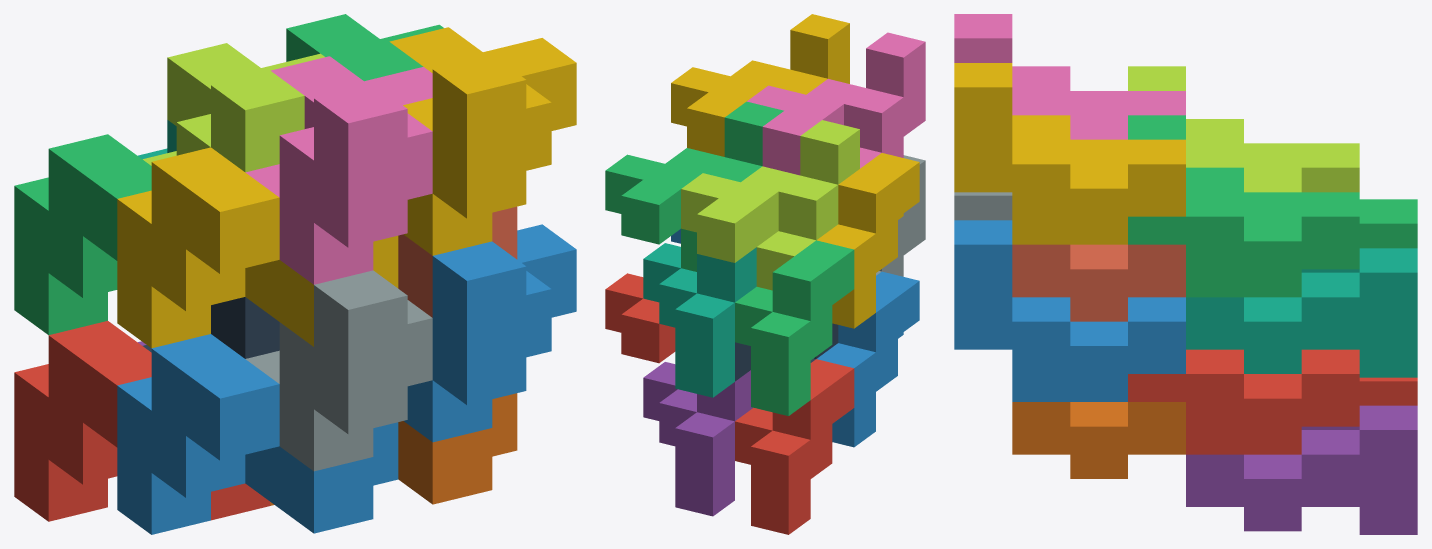
The model's file is tiling.obj.
3 views of the same model, side by side, from view 1: azimuth 30°, elevation 25°; view 2: azimuth 150°, elevation 25°; view 3: azimuth 270°, elevation 25° (orthographic). The views are drawn at different scales.
Visible parts, largest first — view 1: copy_1_domain_2, copy_1_domain_4, copy_2_domain_4, copy_2_domain_8, copy_2_domain_6, copy_2_domain_2, copy_1_domain_1, copy_1_domain_3, copy_2_domain_3, copy_1_domain_6, copy_2_domain_7, copy_1_domain_8 (+1 smaller); view 2: copy_2_domain_3, copy_1_domain_3, copy_2_domain_4, copy_1_domain_1, copy_1_domain_7, copy_2_domain_7, copy_2_domain_8, copy_1_domain_5, copy_1_domain_4, copy_1_domain_2, copy_2_domain_5, copy_2_domain_2 (+1 smaller); view 3: copy_2_domain_8, copy_2_domain_6, copy_2_domain_7, copy_1_domain_5, copy_1_domain_7, copy_2_domain_5, copy_1_domain_8, copy_1_domain_6, copy_2_domain_4, copy_2_domain_3, copy_1_domain_3, copy_1_domain_1 (+1 smaller).
Boxes of the visible parts, <box> form: copy_1_domain_2: <box>117,334,398,534</box>; copy_1_domain_4: <box>117,147,398,348</box>; copy_2_domain_4: <box>245,56,432,284</box>; copy_2_domain_8: <box>389,27,576,255</box>; copy_2_domain_6: <box>404,224,576,442</box>; copy_2_domain_2: <box>245,270,432,471</box>; copy_1_domain_1: <box>14,321,270,521</box>; copy_1_domain_3: <box>14,134,151,335</box>; copy_2_domain_3: <box>143,43,324,172</box>; copy_1_domain_6: <box>270,393,517,505</box>; copy_2_domain_7: <box>286,14,443,81</box>; copy_1_domain_8: <box>398,206,517,317</box>; copy_2_domain_3: <box>681,120,859,290</box>; copy_1_domain_3: <box>735,240,854,415</box>; copy_2_domain_4: <box>747,32,925,175</box>; copy_1_domain_1: <box>735,359,854,534</box>; copy_1_domain_7: <box>643,243,756,397</box>; copy_2_domain_7: <box>605,101,783,271</box>; copy_2_domain_8: <box>671,14,849,156</box>; copy_1_domain_5: <box>643,362,752,516</box>; copy_1_domain_4: <box>817,153,919,328</box>; copy_1_domain_2: <box>817,271,919,447</box>; copy_2_domain_5: <box>605,273,675,363</box>; copy_2_domain_2: <box>876,155,925,276</box>; copy_2_domain_8: <box>954,63,1185,244</box>; copy_2_domain_6: <box>954,220,1185,401</box>; copy_2_domain_7: <box>1128,115,1359,297</box>; copy_1_domain_5: <box>1186,405,1417,534</box>; copy_1_domain_7: <box>1186,248,1417,377</box>; copy_2_domain_5: <box>1128,349,1359,454</box>; copy_1_domain_8: <box>1012,244,1185,321</box>; copy_1_domain_6: <box>1012,402,1185,478</box>; copy_2_domain_4: <box>954,14,1185,139</box>; copy_2_domain_3: <box>1128,66,1359,192</box>; copy_1_domain_3: <box>1359,199,1417,248</box>; copy_1_domain_1: <box>1359,377,1417,405</box>.
Bounding box in the file's own units: 6 × 9 × 8.
